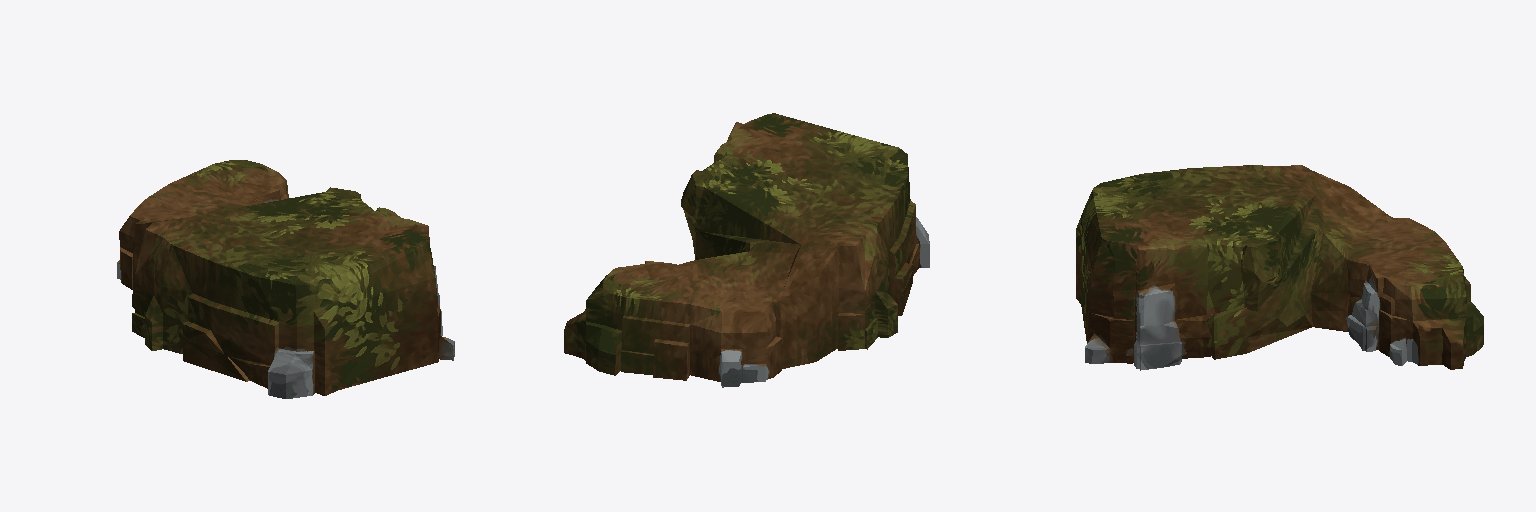
3 renders of one model, left to right at view 1: azimuth 30°, elevation 25°; view 2: azimuth 150°, elevation 25°; view 3: azimuth 270°, elevation 25°, orthographic.
Parts seen in each view (by area): view 1: Cylinder.026; view 2: Cylinder.026; view 3: Cylinder.026.
Part boxes in pixels (bbox=[...]): Cylinder.026: bbox=[117, 160, 454, 398]; Cylinder.026: bbox=[564, 113, 929, 387]; Cylinder.026: bbox=[1076, 165, 1483, 370].
Bounding box in the file's own units: 46.83 × 22.02 × 70.94.
Materials: 1 (1 with a texture image).